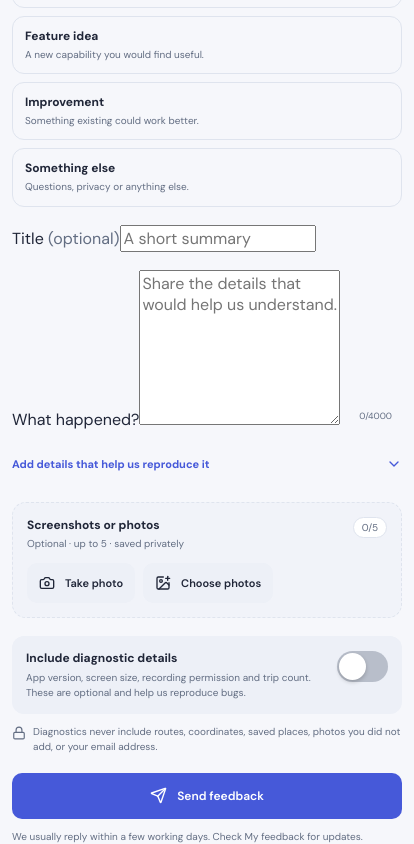
Scenario: blocks an empty submission with field-level guidance
This screenshot has width=414, height=844.
(page scrolled)
What coordinates should you click on to do the following:
click the button "Send feedback"
I would click on:
 (207, 796)
Its box is [12, 773, 402, 819].
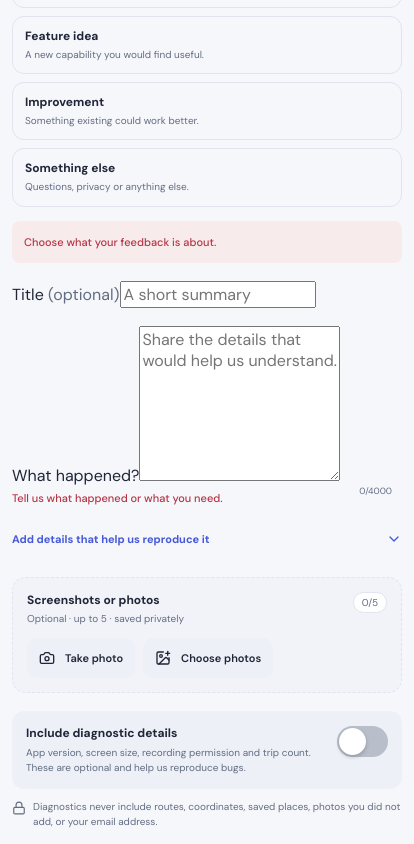
Now the text "Choose what your feedback is about." is shown, box [12, 221, 402, 263]
Now the text "Tell us what happened or what you need." is shown, box [12, 491, 223, 505]
